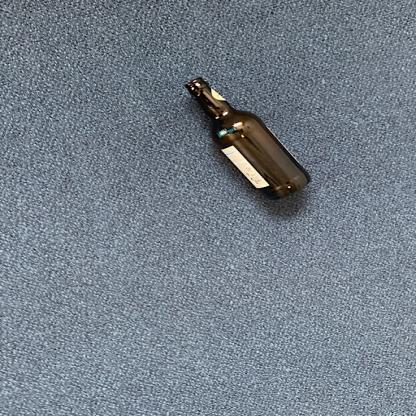trash: (183, 73, 315, 206)
